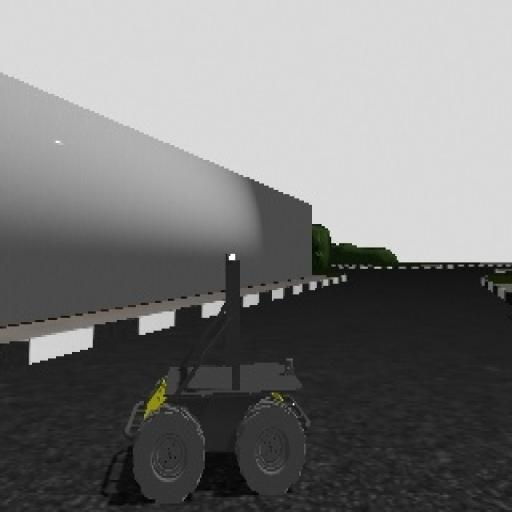huskya200: (88, 249, 333, 506)
